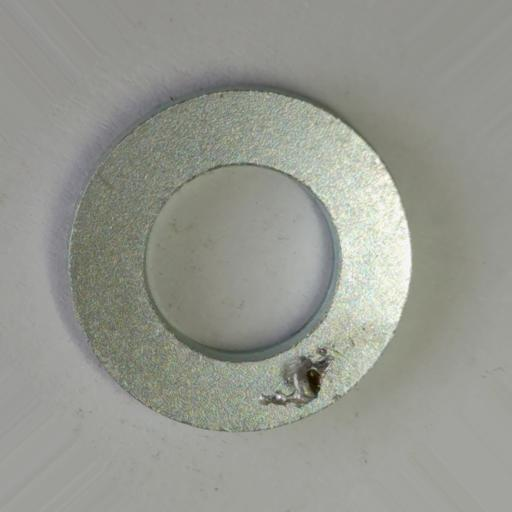excess_material: (256, 347, 334, 408)
